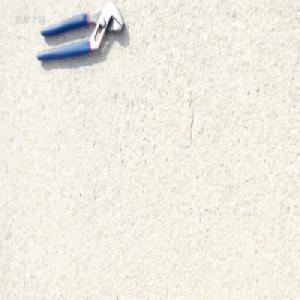Pliers: (35, 2, 124, 62)
